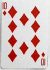ten: (1, 1, 46, 68)
